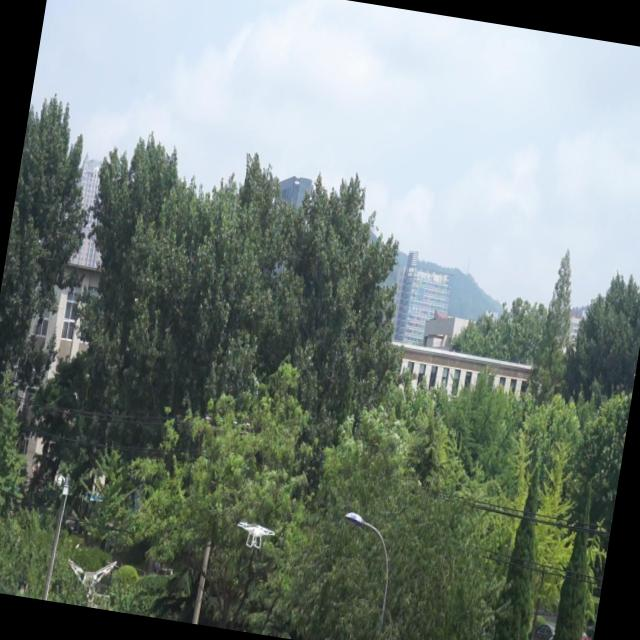drone: (232, 514, 280, 556)
